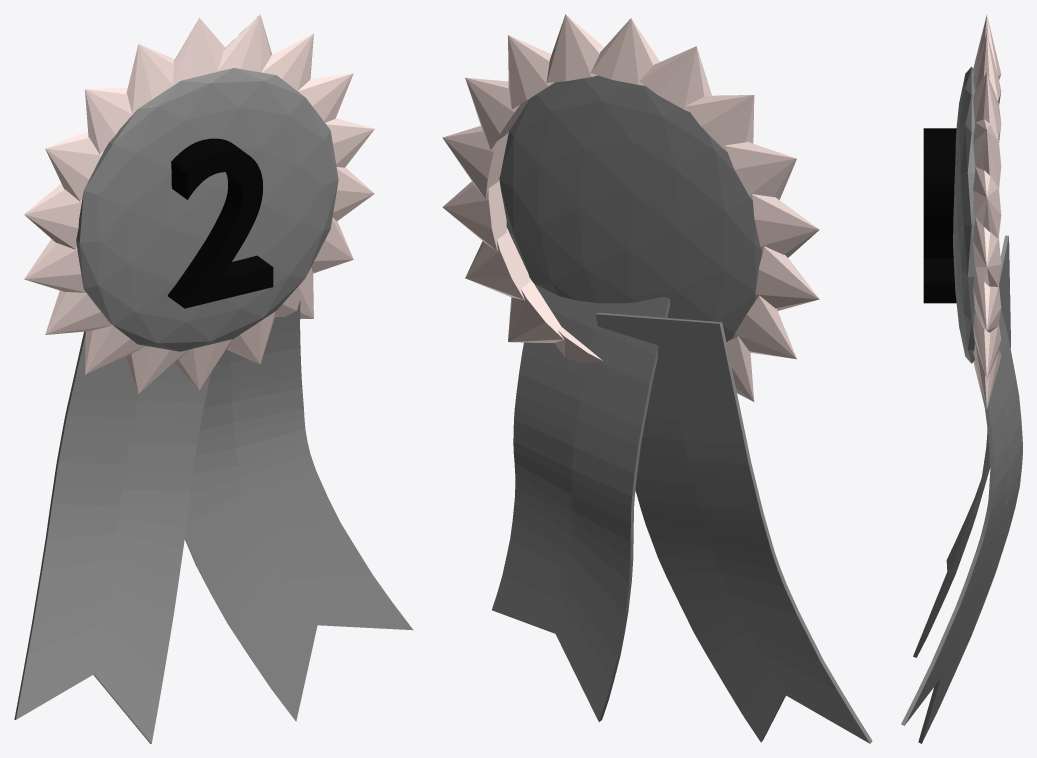
3 renders of one model, left to right at view 1: azimuth 30°, elevation 25°; view 2: azimuth 150°, elevation 25°; view 3: azimuth 270°, elevation 25°, orthographic. The views are drawn at different scales.
Parts seen in each view (by area): view 1: Cube; view 2: Cube; view 3: Cube.
Boxes of the visible parts, box(x1,y1,x2,y2) form: Cube: box(14, 14, 413, 743); Cube: box(442, 14, 872, 743); Cube: box(901, 14, 1022, 743).
Size of the model in its own units: 5384 by 9415 by 1527.
